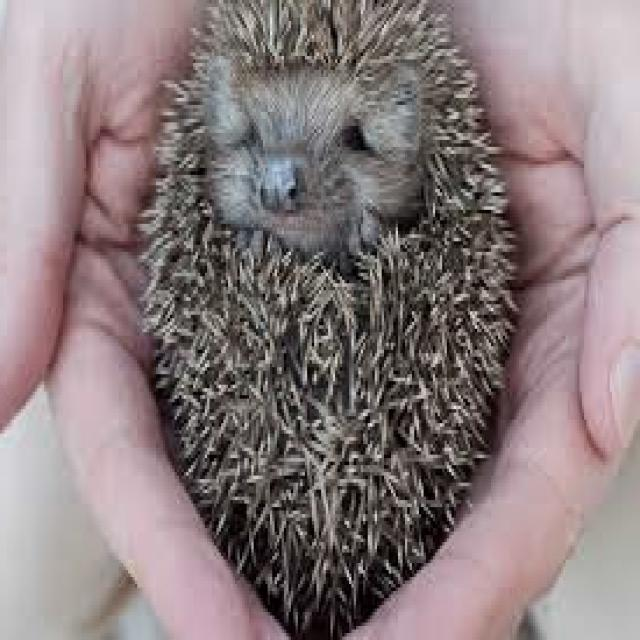hedgehog: (142, 0, 517, 637)
